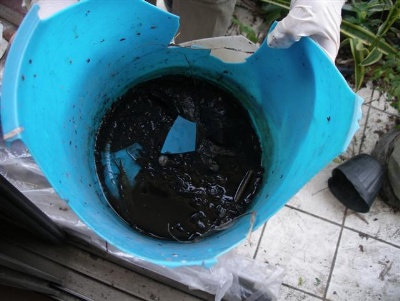bowl: (328, 153, 386, 216)
bucket: (5, 2, 369, 269)
